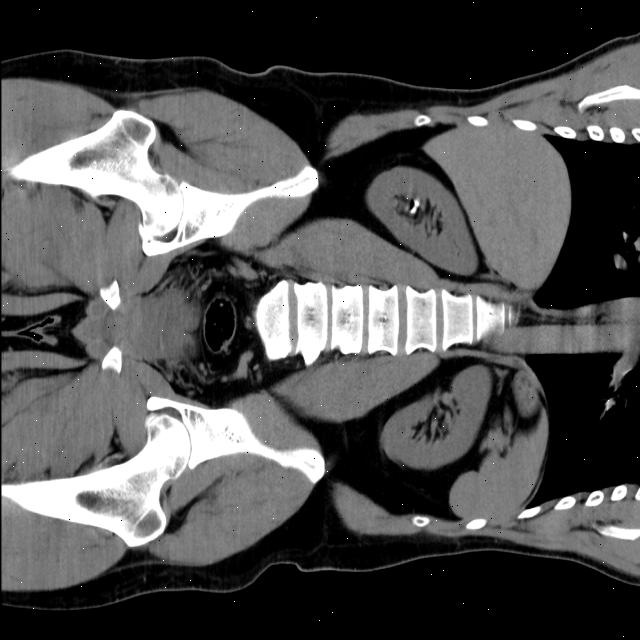kidneystone: (409, 198, 419, 220)
